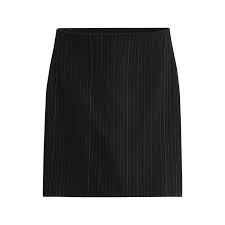F_tailored skirt: (34, 22, 192, 207)
